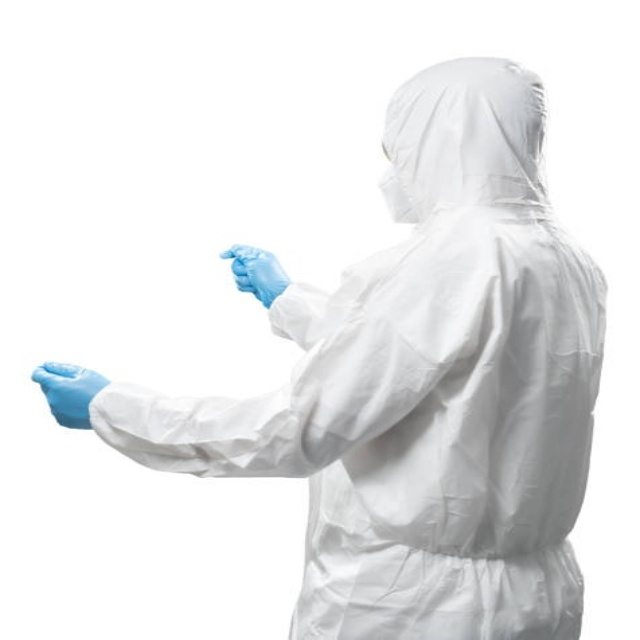Guantes: (32, 361, 114, 429), (220, 244, 293, 309)
Mascara: (378, 163, 422, 224)
